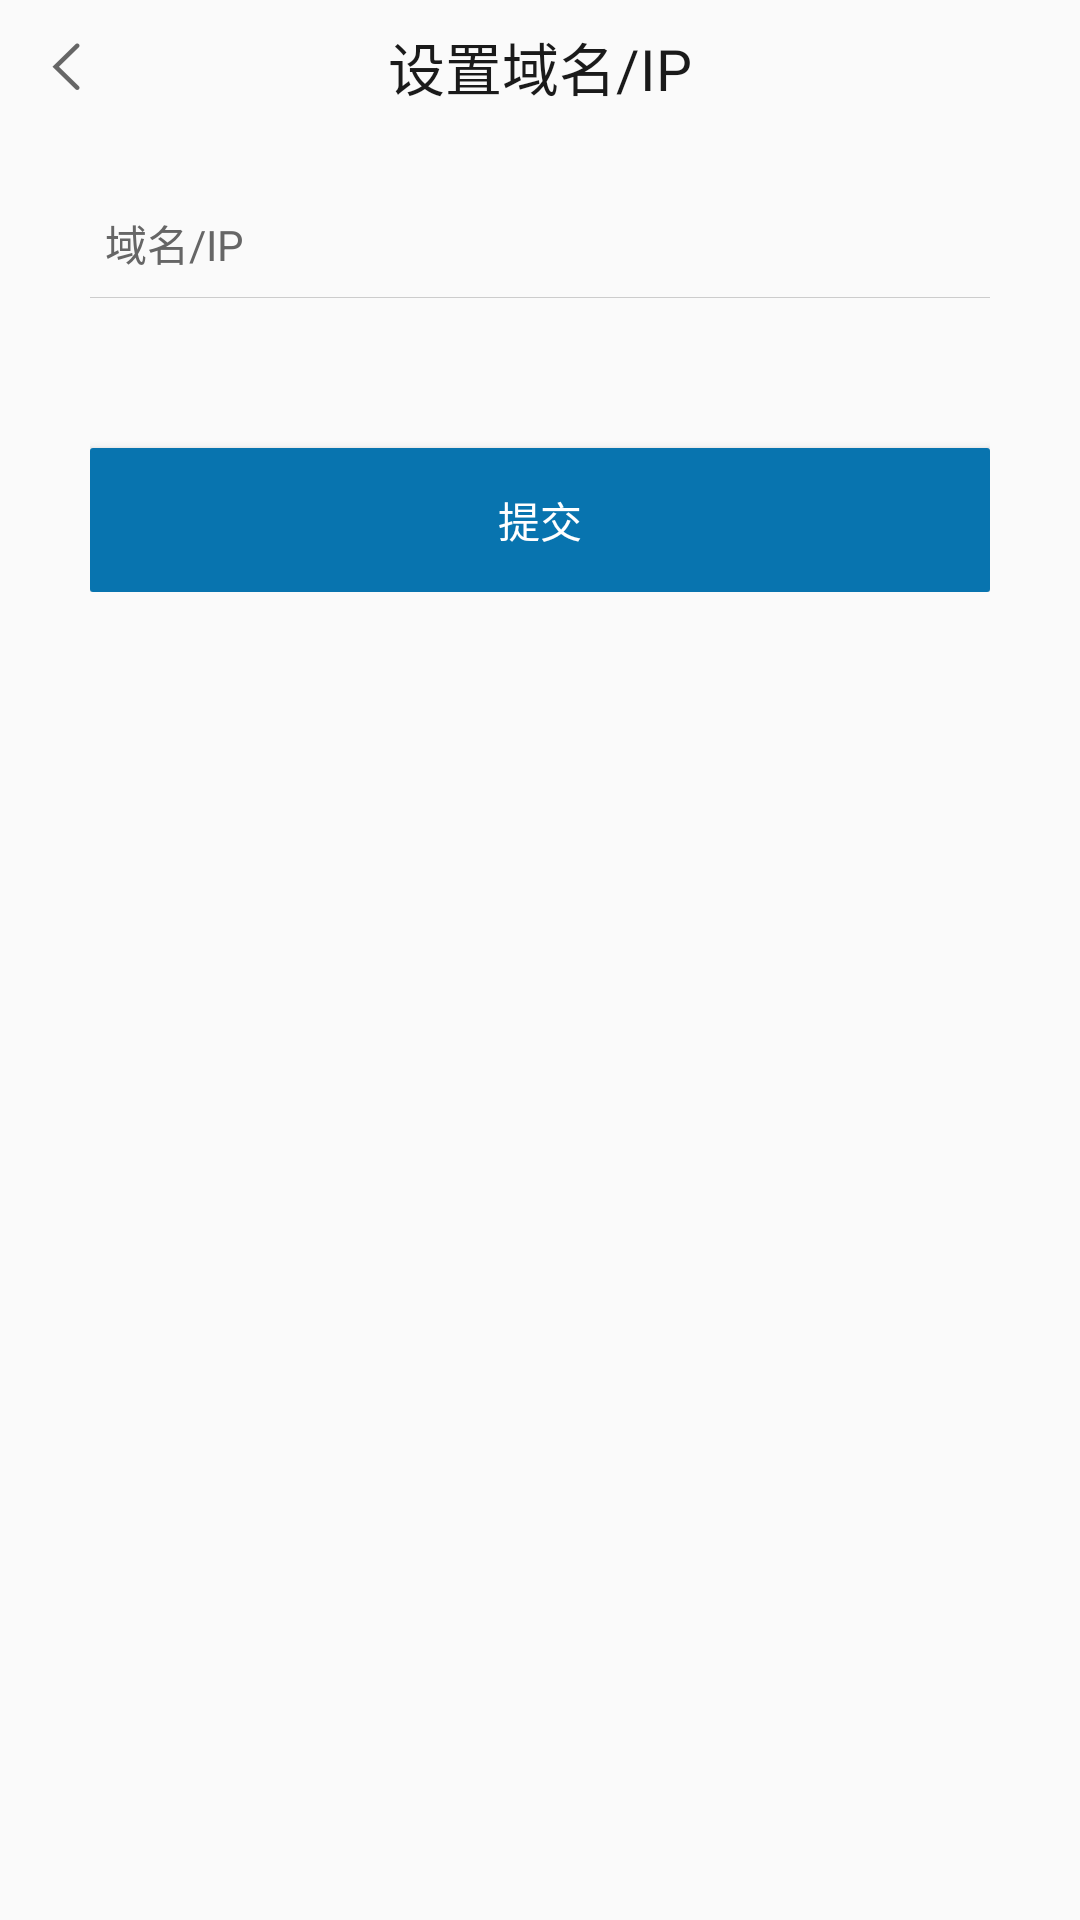

Locate icon controls on the screen. Image size 1080*1920, boxes as (x1, y1, x2, y2).
back: (52, 43, 80, 90)
